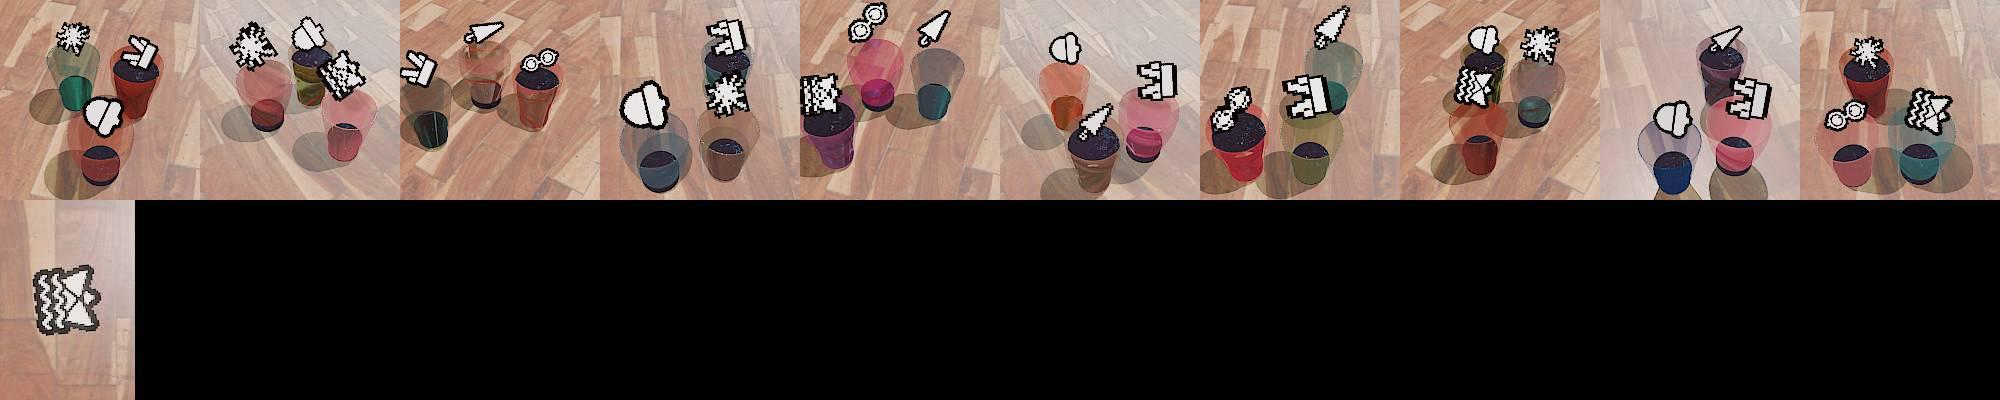icon: (31, 264, 103, 336), (315, 47, 370, 101), (620, 79, 672, 130), (228, 20, 278, 73), (1282, 73, 1333, 120), (1902, 87, 1953, 134), (704, 71, 750, 117), (1210, 85, 1254, 134), (798, 71, 843, 116), (1728, 74, 1772, 120), (1454, 65, 1500, 108), (83, 93, 125, 138), (847, 1, 889, 46), (1073, 99, 1116, 141), (1136, 59, 1177, 102), (1520, 24, 1562, 65), (1653, 99, 1695, 139), (705, 17, 747, 56), (1312, 5, 1349, 50), (915, 9, 952, 48), (402, 48, 439, 88), (1824, 99, 1869, 131), (291, 15, 327, 54), (55, 22, 93, 57), (1847, 36, 1885, 70), (125, 34, 161, 70), (1048, 31, 1082, 65), (464, 20, 505, 47), (1708, 24, 1742, 55), (1468, 24, 1501, 55), (520, 47, 560, 73)
